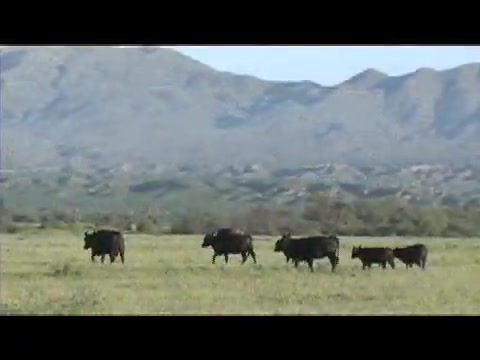cow: (273, 236, 340, 274), (202, 229, 259, 265), (84, 228, 127, 266), (352, 245, 398, 273), (393, 244, 429, 270)
